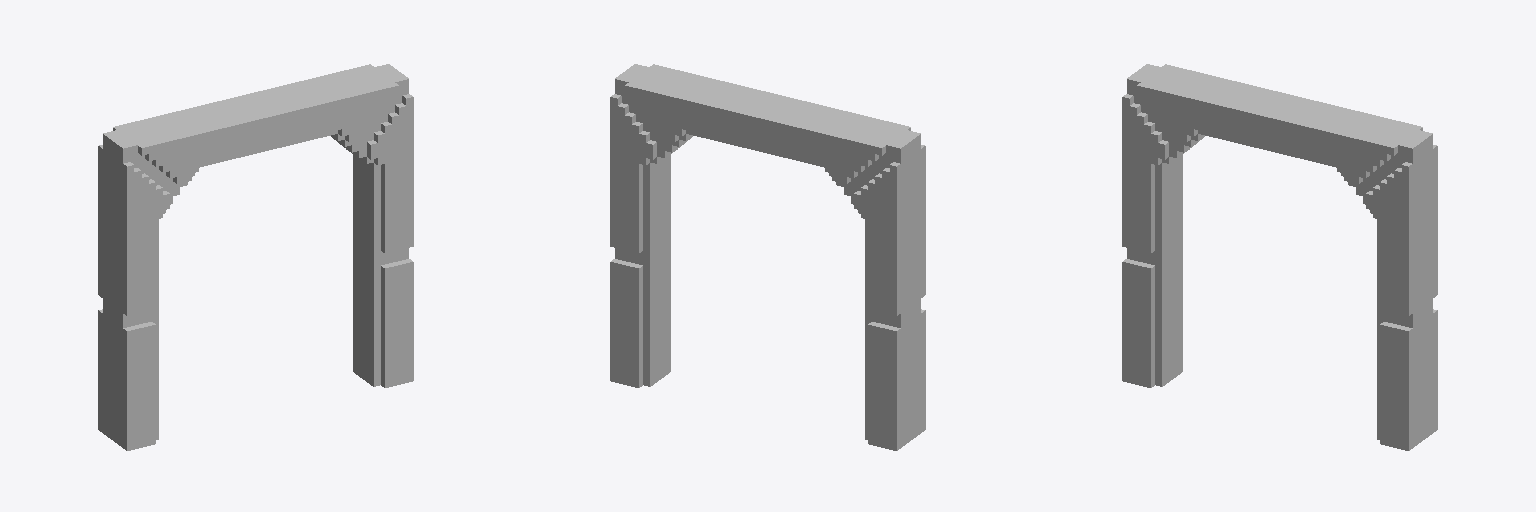
The model's file is Architeture1-11.obj.
3 renders of one model, left to right at view 1: azimuth 30°, elevation 25°; view 2: azimuth 150°, elevation 25°; view 3: azimuth 330°, elevation 25°, orthographic.
Visible parts, largest first — view 1: object 1; view 2: object 1; view 3: object 1.
Boxes of the visible parts, x1,y1,x2,y2 form: object 1: [98, 64, 413, 450]; object 1: [610, 64, 925, 450]; object 1: [1122, 64, 1437, 450].
Size of the model in its own units: 4 by 4 by 0.7.